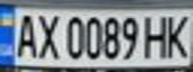0: (84, 12, 106, 61), (63, 11, 84, 61)
8: (103, 12, 124, 61)
9: (118, 12, 142, 61)
A: (9, 10, 39, 60)
H: (142, 11, 172, 60)
K: (163, 11, 193, 60)
X: (33, 10, 63, 61)
